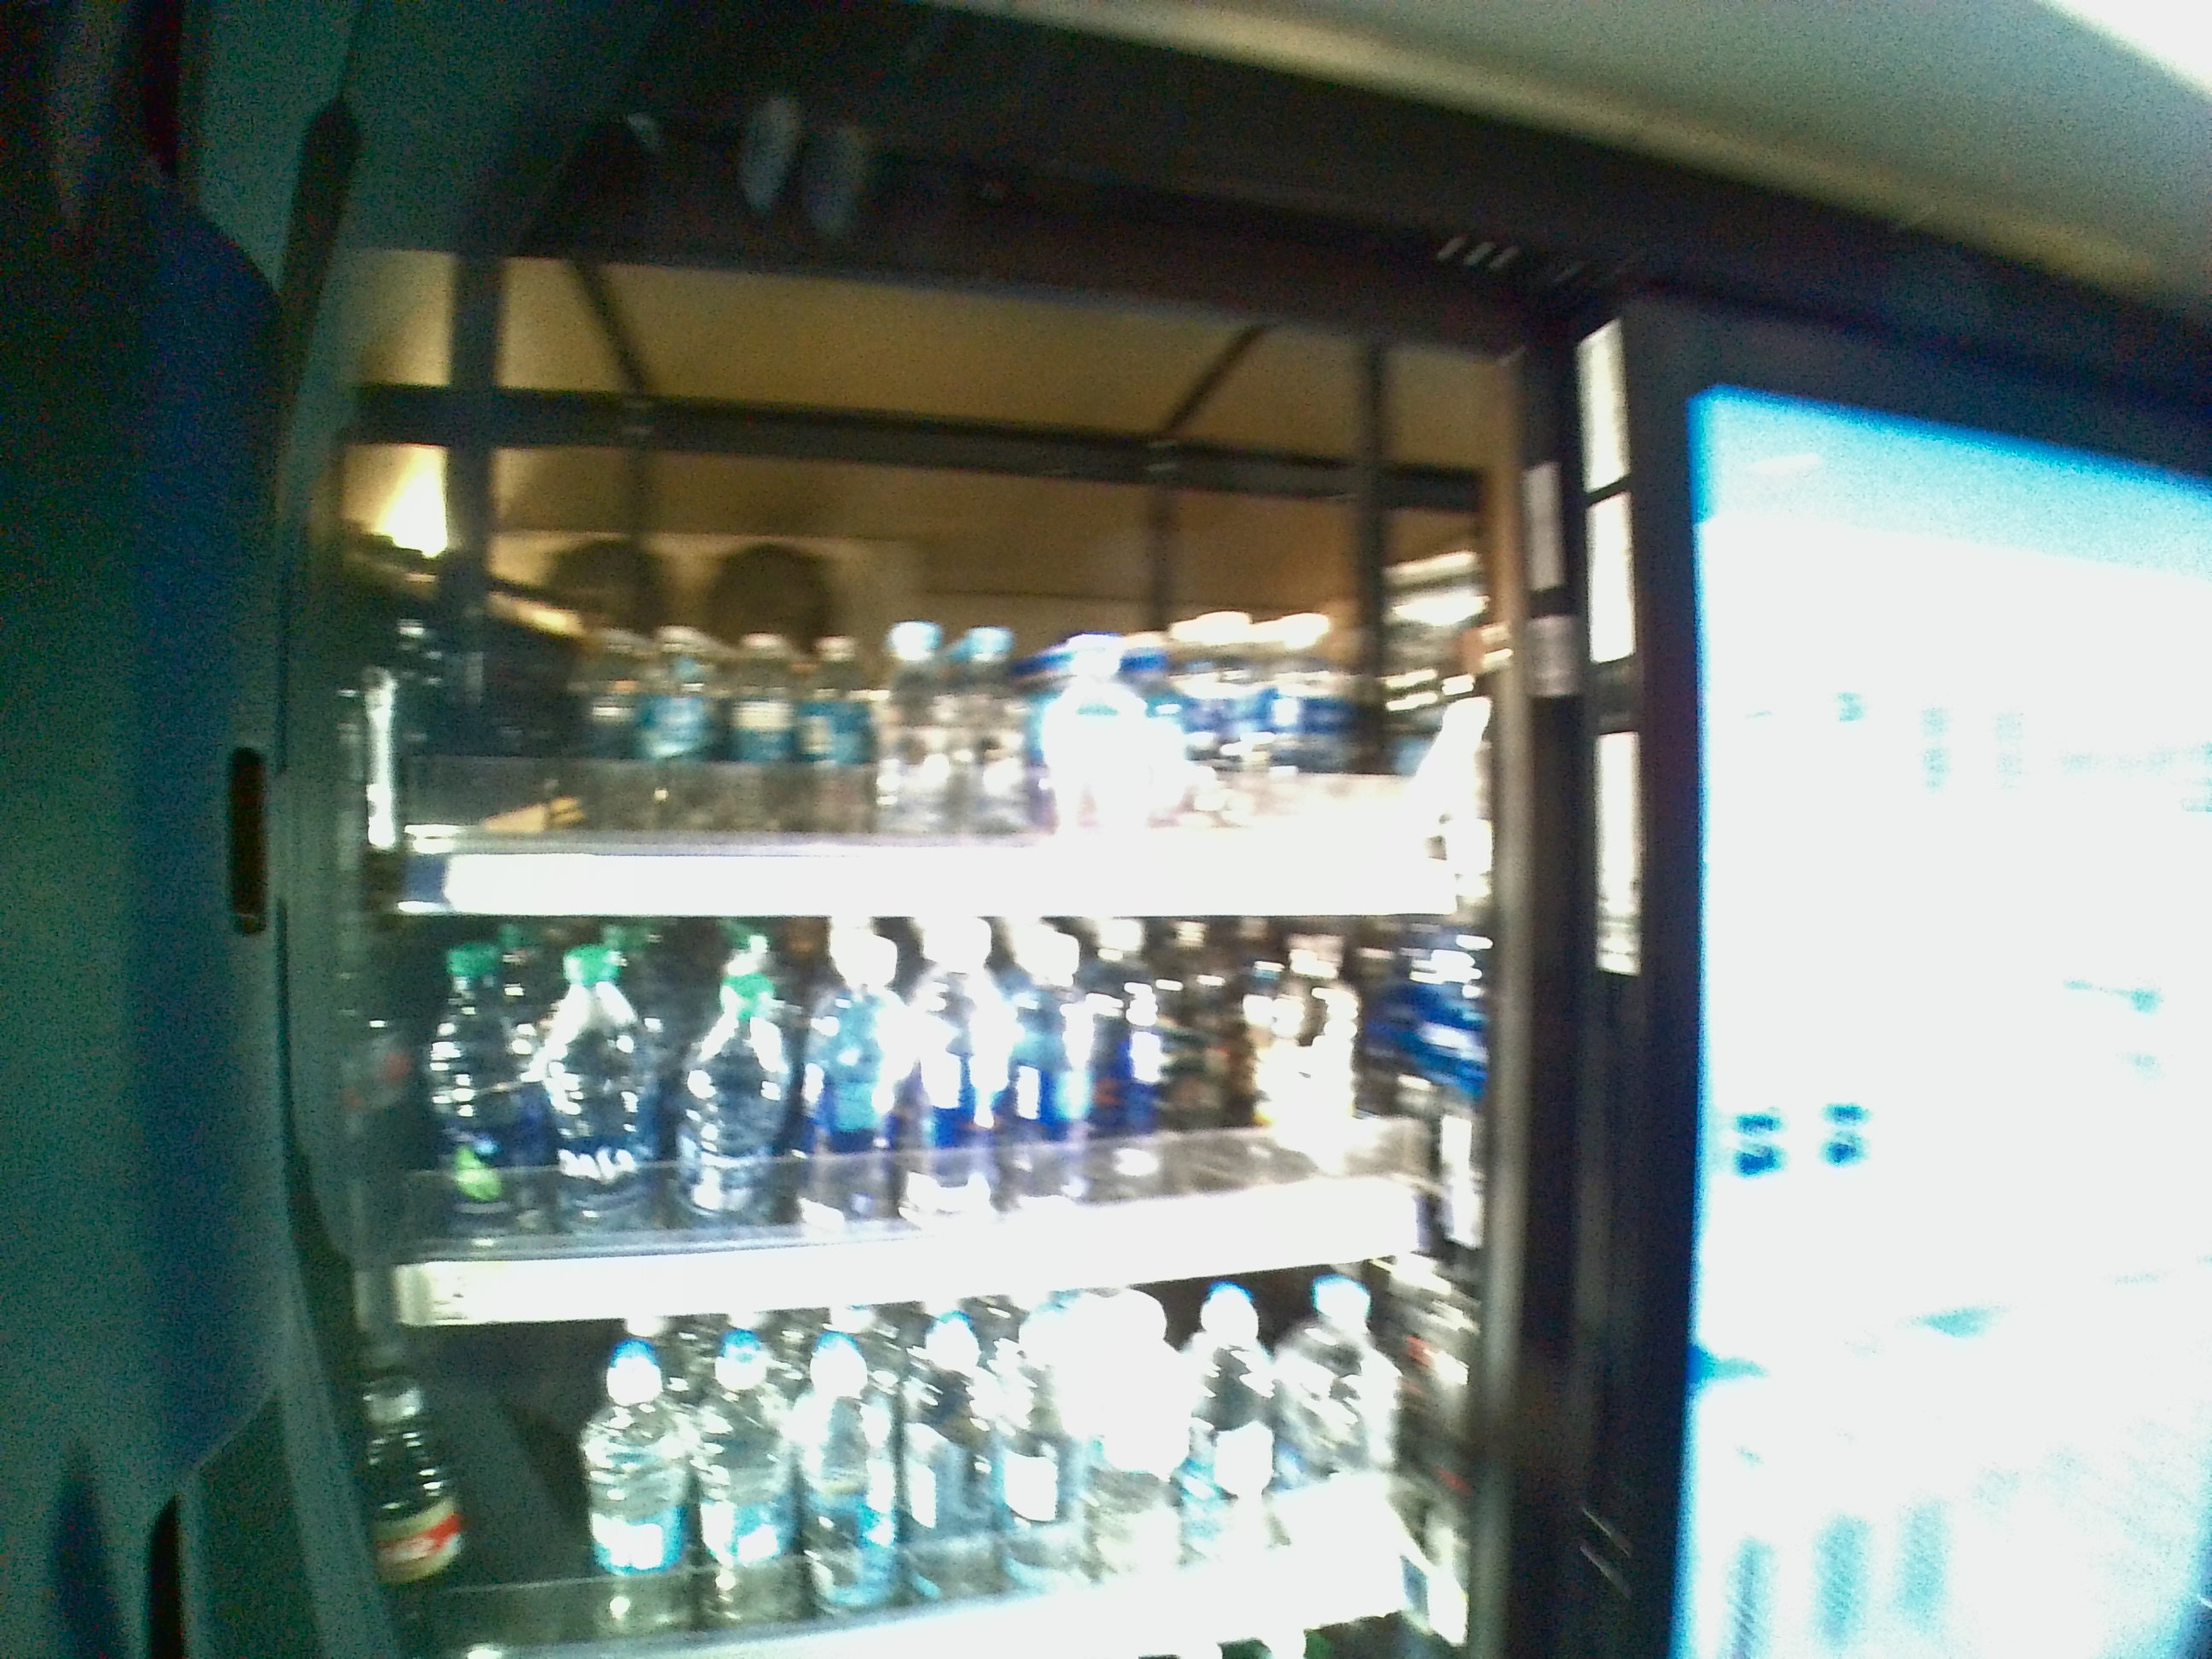shelf: (376, 917, 1510, 1328)
